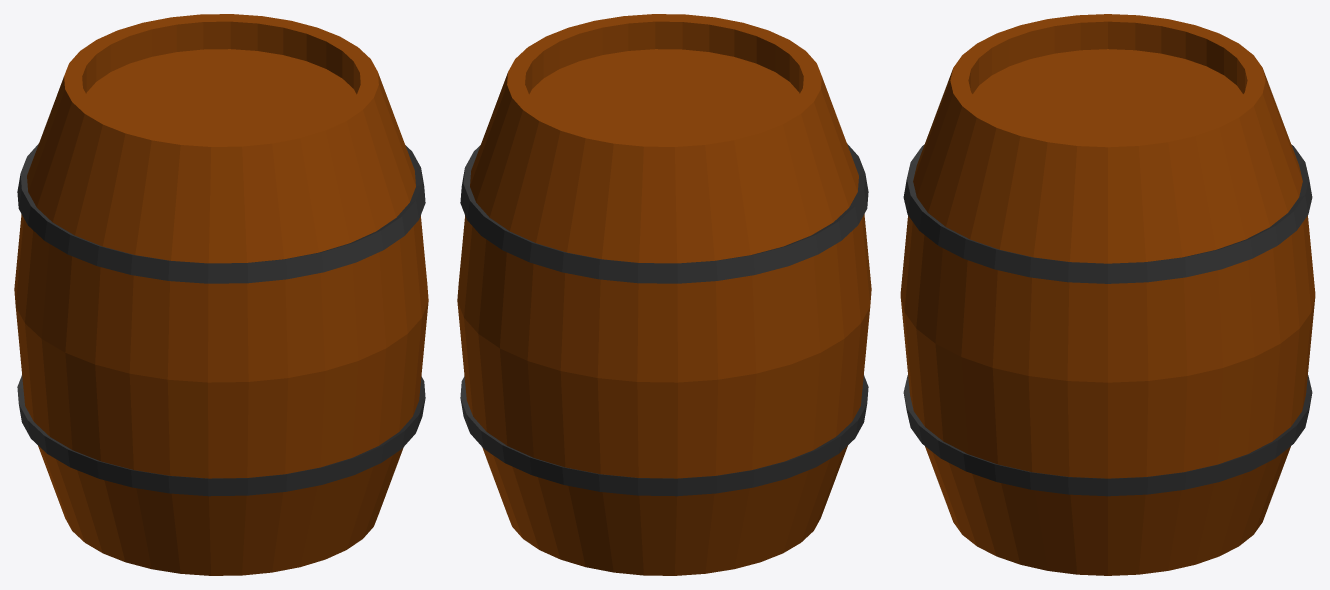
Rendered from barrel.fbx.
3 renders of one model, left to right at view 1: azimuth 30°, elevation 25°; view 2: azimuth 150°, elevation 25°; view 3: azimuth 270°, elevation 25°, orthographic.
Parts seen in each view (by area): view 1: Cylinder; view 2: Cylinder; view 3: Cylinder.
Part boxes in pixels (<box>): Cylinder: <box>14,14,428,575</box>; Cylinder: <box>457,14,871,575</box>; Cylinder: <box>900,14,1315,575</box>.
Size of the model in its own units: 263 by 300 by 263.
